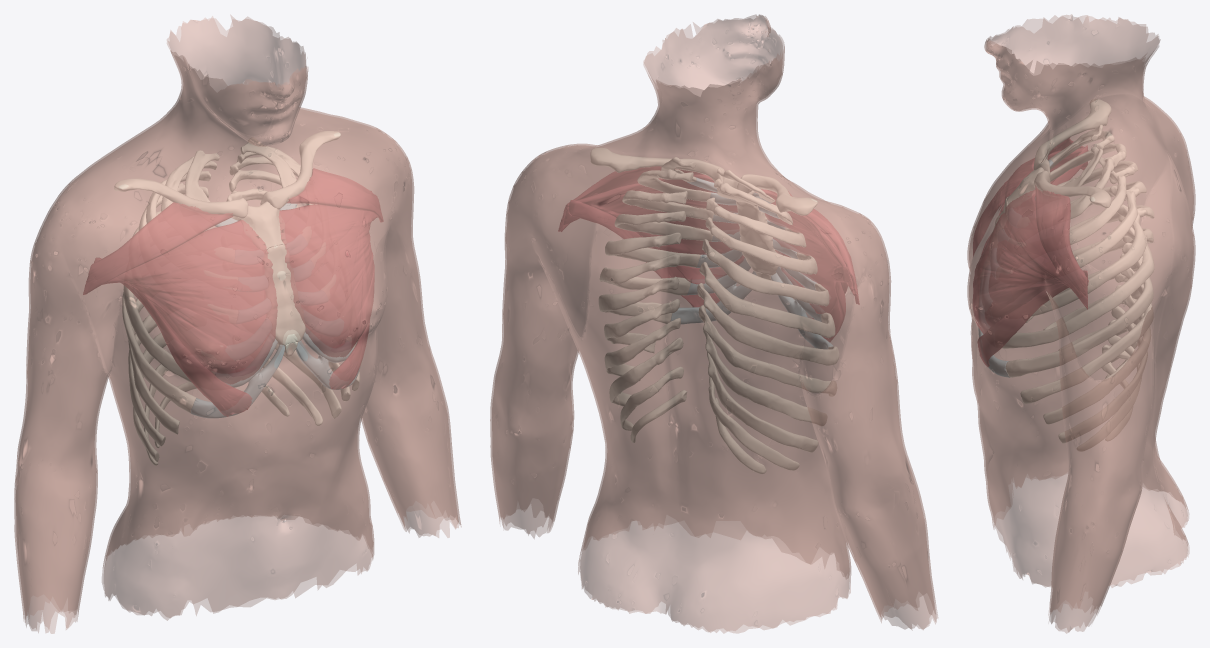
File: registered-thorax.glb
3 views of the same model, side by side, from view 1: azimuth 30°, elevation 25°; view 2: azimuth 150°, elevation 25°; view 3: azimuth 270°, elevation 25° (orthographic). The views are drawn at different scales.
Parts seen in each view (by area): view 1: FJ2810 Skin, FJ1464 Sternocostal part of right pectoralis major, FJ1464M Sternocostal part of left pectoralis major, FJ1447 Clavicular part of right pectoralis major, FJ1446 Abdominal part of right pectoralis major, FJ1447M Clavicular part of left pectoralis major, FJ3178 Body of sternum, FJ3362 Right clavicle, FJ3237 Left clavicle, FJ3346 Right seventh rib, FJ3344 Right sixth rib, FJ3345 Right seventh costal cartilage (+9 smaller); view 2: FJ2810 Skin, FJ1464M Sternocostal part of left pectoralis major, FJ1464 Sternocostal part of right pectoralis major, FJ3346 Right seventh rib, FJ3344 Right sixth rib, FJ3347 Right eighth rib, FJ3342 Right fifth rib, FJ3348 Right ninth rib, FJ3330 Right tenth rib, FJ3232 Left fifth rib, FJ3231 Left fourth rib, FJ3233 Left sixth rib (+22 smaller); view 3: FJ2810 Skin, FJ1464M Sternocostal part of left pectoralis major, FJ1447M Clavicular part of left pectoralis major, FJ3234 Left seventh rib, FJ3233 Left sixth rib, FJ3235 Left eighth rib, FJ1446M Abdominal part of left pectoralis major, FJ3232 Left fifth rib, FJ3236 Left ninth rib, FJ1464 Sternocostal part of right pectoralis major, FJ3362 Right clavicle, FJ3225 Left tenth rib (+15 smaller).
Boxes of the visible parts, <box> form: FJ2810 Skin: <box>14,14,461,633</box>; FJ1464 Sternocostal part of right pectoralis major: <box>103,220,277,384</box>; FJ1464M Sternocostal part of left pectoralis major: <box>279,204,377,357</box>; FJ1447 Clavicular part of right pectoralis major: <box>83,202,232,294</box>; FJ1446 Abdominal part of right pectoralis major: <box>94,258,251,416</box>; FJ1447M Clavicular part of left pectoralis major: <box>287,168,383,222</box>; FJ3178 Body of sternum: <box>267,245,305,345</box>; FJ3362 Right clavicle: <box>114,179,247,218</box>; FJ3237 Left clavicle: <box>260,131,340,209</box>; FJ3346 Right seventh rib: <box>122,293,195,413</box>; FJ3344 Right sixth rib: <box>123,285,191,382</box>; FJ3345 Right seventh costal cartilage: <box>191,345,284,417</box>; FJ2810 Skin: <box>490,14,938,633</box>; FJ1464M Sternocostal part of left pectoralis major: <box>564,175,744,284</box>; FJ1464 Sternocostal part of right pectoralis major: <box>761,189,854,313</box>; FJ3346 Right seventh rib: <box>697,283,839,365</box>; FJ3344 Right sixth rib: <box>699,262,834,337</box>; FJ3347 Right eighth rib: <box>699,305,836,395</box>; FJ3342 Right fifth rib: <box>702,239,828,305</box>; FJ3348 Right ninth rib: <box>703,329,826,425</box>; FJ3330 Right tenth rib: <box>707,352,818,452</box>; FJ3232 Left fifth rib: <box>605,233,700,267</box>; FJ3231 Left fourth rib: <box>615,211,712,241</box>; FJ3233 Left sixth rib: <box>600,254,690,295</box>; FJ2810 Skin: <box>967,14,1195,633</box>; FJ1464M Sternocostal part of left pectoralis major: <box>973,190,1088,333</box>; FJ1447M Clavicular part of left pectoralis major: <box>1035,185,1087,309</box>; FJ3234 Left seventh rib: <box>1006,243,1153,377</box>; FJ3233 Left sixth rib: <box>1002,227,1153,348</box>; FJ3235 Left eighth rib: <box>1020,268,1152,403</box>; FJ1446M Abdominal part of left pectoralis major: <box>977,270,1087,366</box>; FJ3232 Left fifth rib: <box>1031,204,1146,316</box>; FJ3236 Left ninth rib: <box>1043,285,1150,424</box>; FJ1464 Sternocostal part of right pectoralis major: <box>973,148,1088,256</box>; FJ3362 Right clavicle: <box>1034,99,1111,173</box>; FJ3225 Left tenth rib: <box>1058,306,1147,443</box>.
Bounding box in the file's own units: 0.5589 × 0.6507 × 0.2708.
